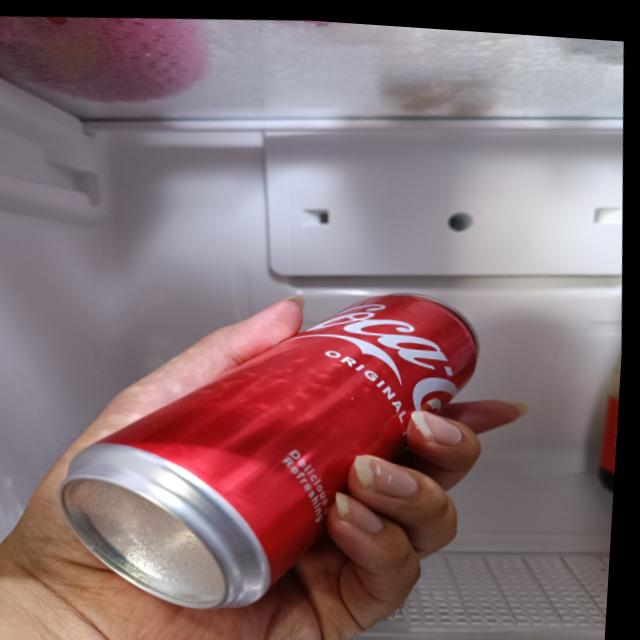coke: (62, 267, 499, 625)
